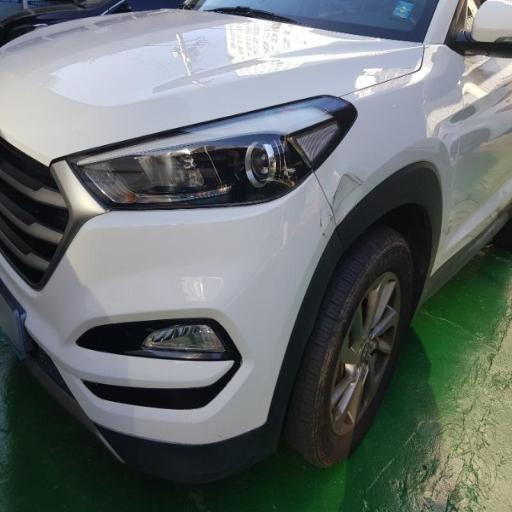scratch: (129, 14, 233, 132), (308, 141, 369, 242)
